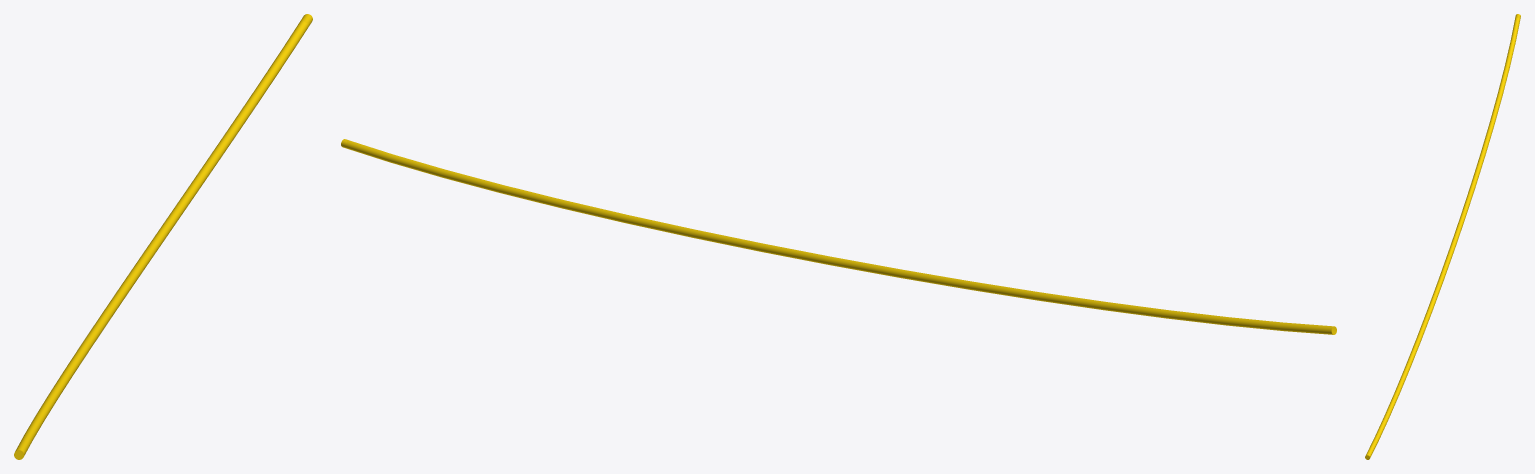
File: Event_421115418_track_45.fbx
3 views of the same model, side by side, from view 1: azimuth 90°, elevation 25°; view 2: azimuth 150°, elevation 25°; view 3: azimuth 270°, elevation 25° (orthographic). The views are drawn at different scales.
Parts seen in each view (by area): view 1: Model; view 2: Model; view 3: Model.
Part boxes in pixels (x1,y1,x2,y2): Model: [14, 14, 312, 459]; Model: [341, 139, 1336, 334]; Model: [1365, 14, 1520, 459].
Size of the model in its own units: 5.96 by 0.9264 by 1.17.
